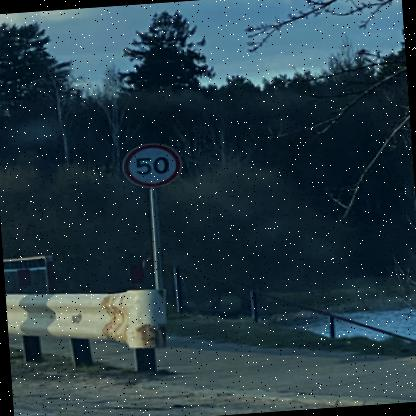speedlimit: (118, 140, 180, 190)
